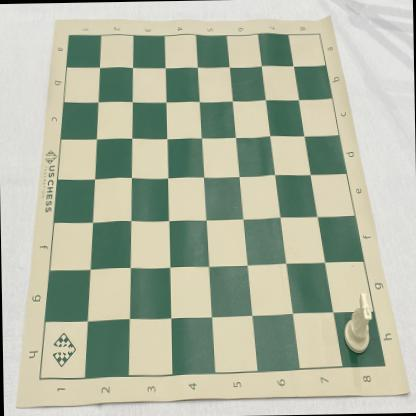white-knight: (342, 292, 372, 354)
